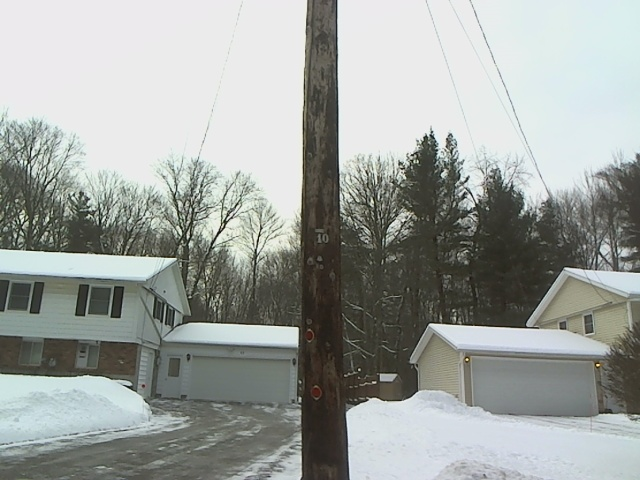Ploughed: (14, 400, 294, 477)
